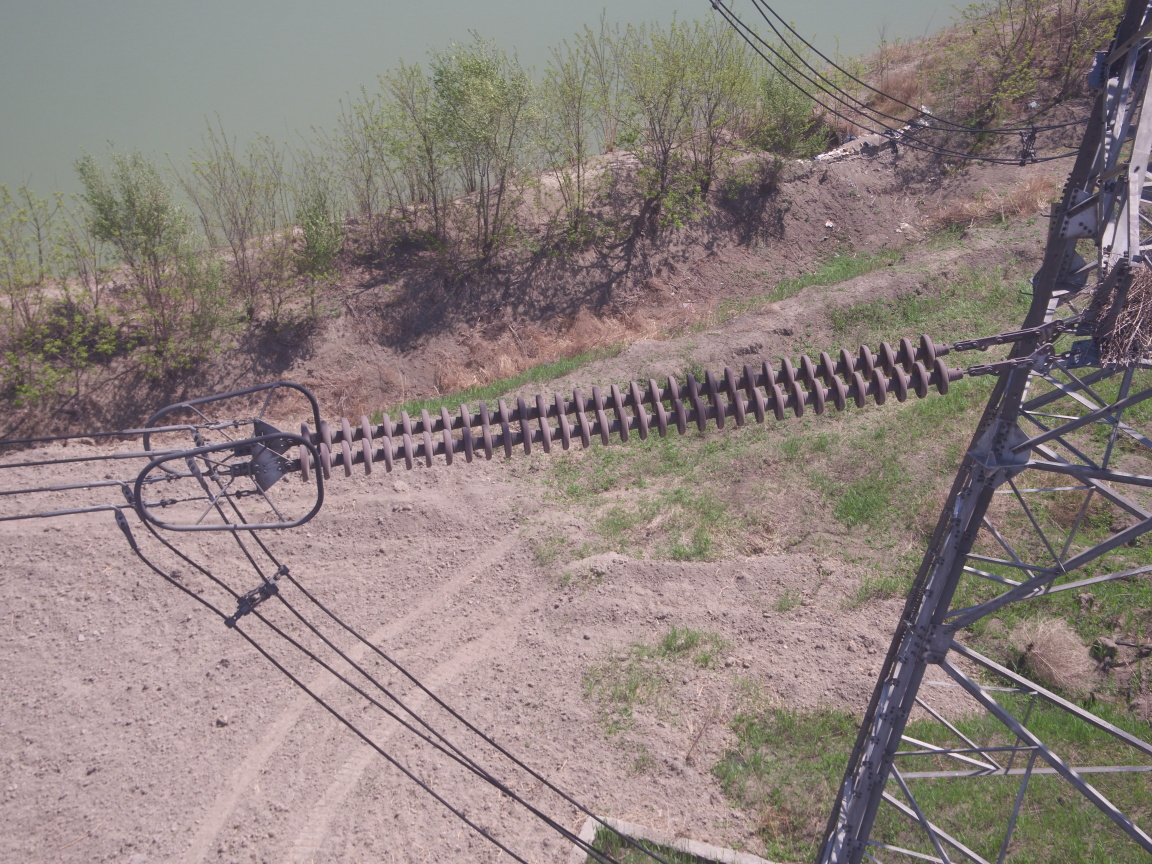insulator: (275, 324, 1026, 484)
